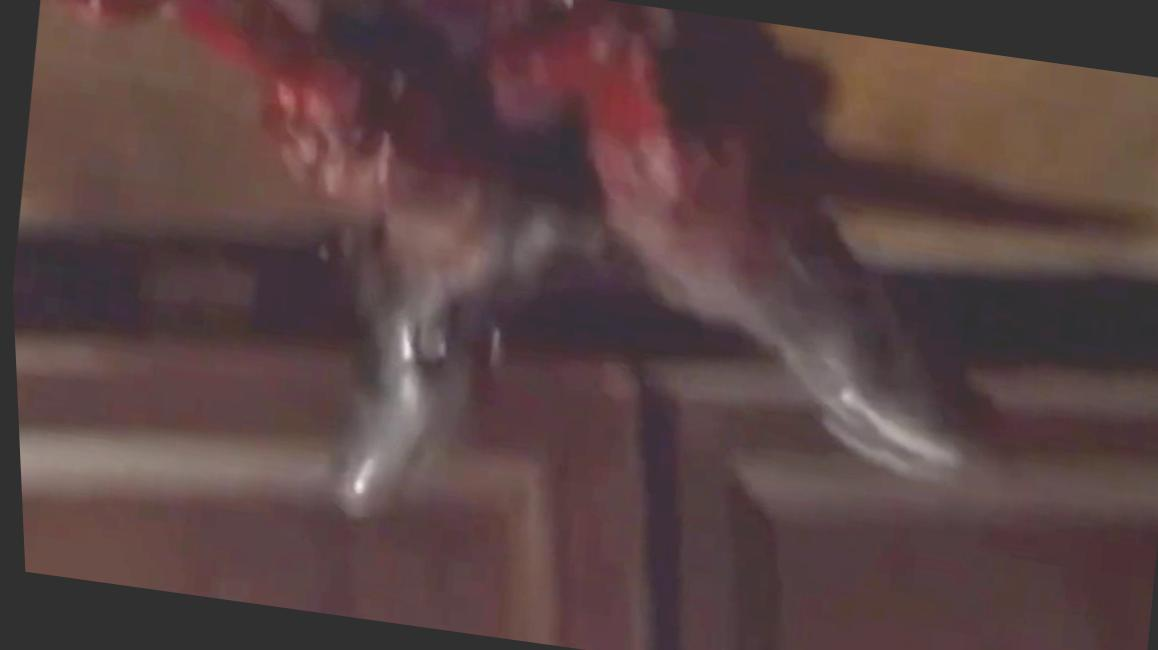Fire: (55, 0, 849, 349)
